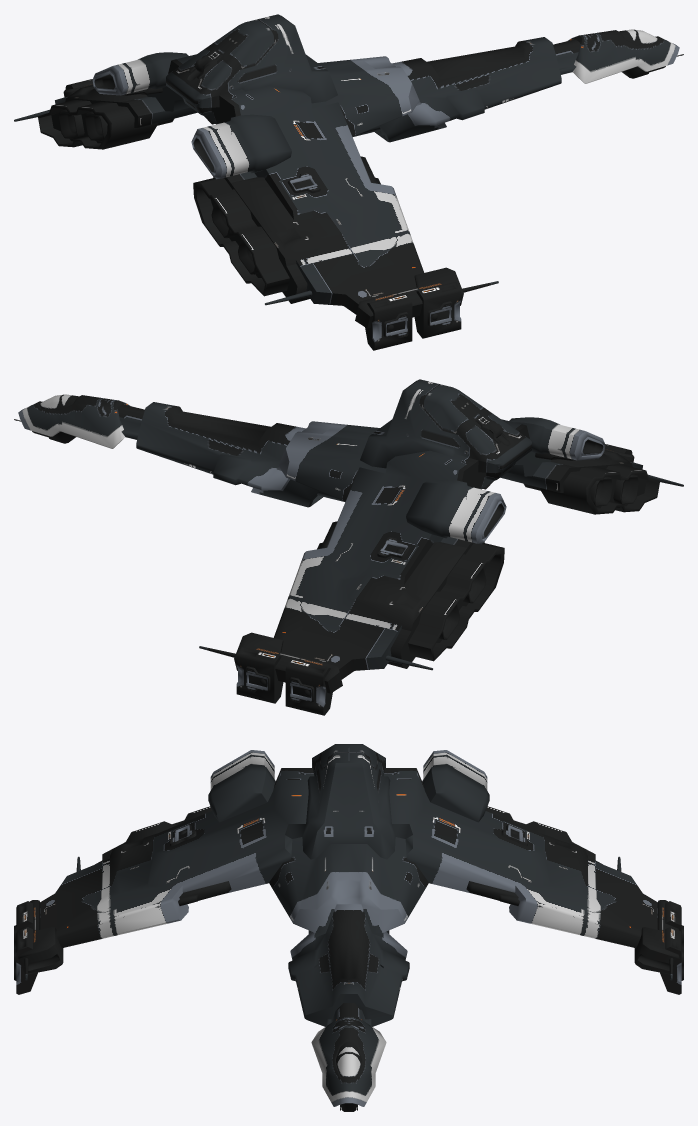
The model's file is condor.glb.
The picture shows the model from 3 angles, top to bottom: view 1: azimuth 30°, elevation 25°; view 2: azimuth 150°, elevation 25°; view 3: azimuth 270°, elevation 25°; orthographic projection. The views are drawn at different scales.
Visible parts, largest first — view 1: Condor; view 2: Condor; view 3: Condor.
Boxes of the visible parts, <box> form: Condor: <box>14,14,683,350</box>; Condor: <box>14,379,683,715</box>; Condor: <box>14,744,683,1111</box>.
Size of the model in its own units: 76.28 by 27.57 by 76.06.
Materials: 1 (1 with a texture image).
